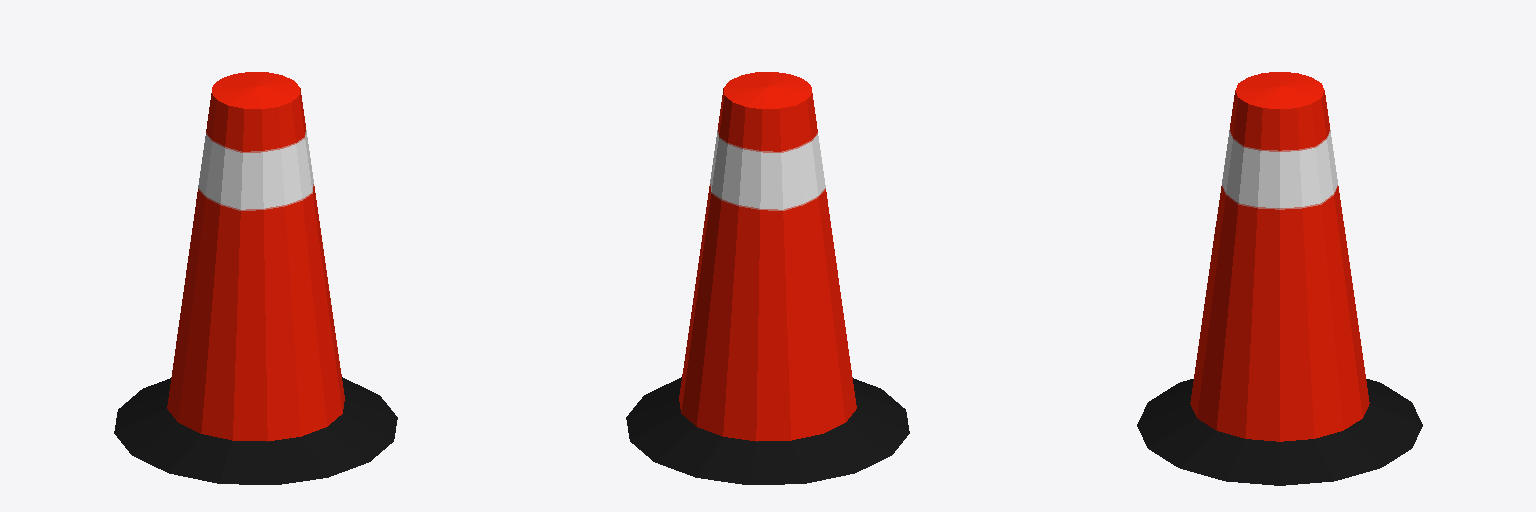
3 renders of one model, left to right at view 1: azimuth 30°, elevation 25°; view 2: azimuth 150°, elevation 25°; view 3: azimuth 270°, elevation 25°, orthographic.
Parts seen in each view (by area): view 1: cone4; view 2: cone4; view 3: cone4.
Boxes of the visible parts, x1,y1,x2,y2 form: cone4: [114, 72, 397, 484]; cone4: [626, 72, 909, 484]; cone4: [1137, 72, 1422, 485].
Bounding box in the file's own units: 0.4782 × 0.6252 × 0.4782.
1 materials, 1 textured.